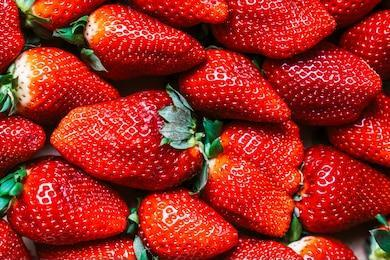Fresa: (47, 83, 206, 196), (201, 109, 305, 241), (6, 150, 134, 248), (256, 34, 381, 131), (76, 2, 212, 84), (174, 41, 295, 133), (5, 43, 126, 130), (290, 137, 390, 238), (133, 183, 241, 260)
